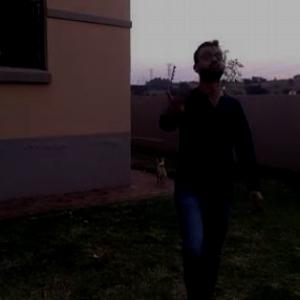takeoff-hand: (160, 85, 191, 124)
